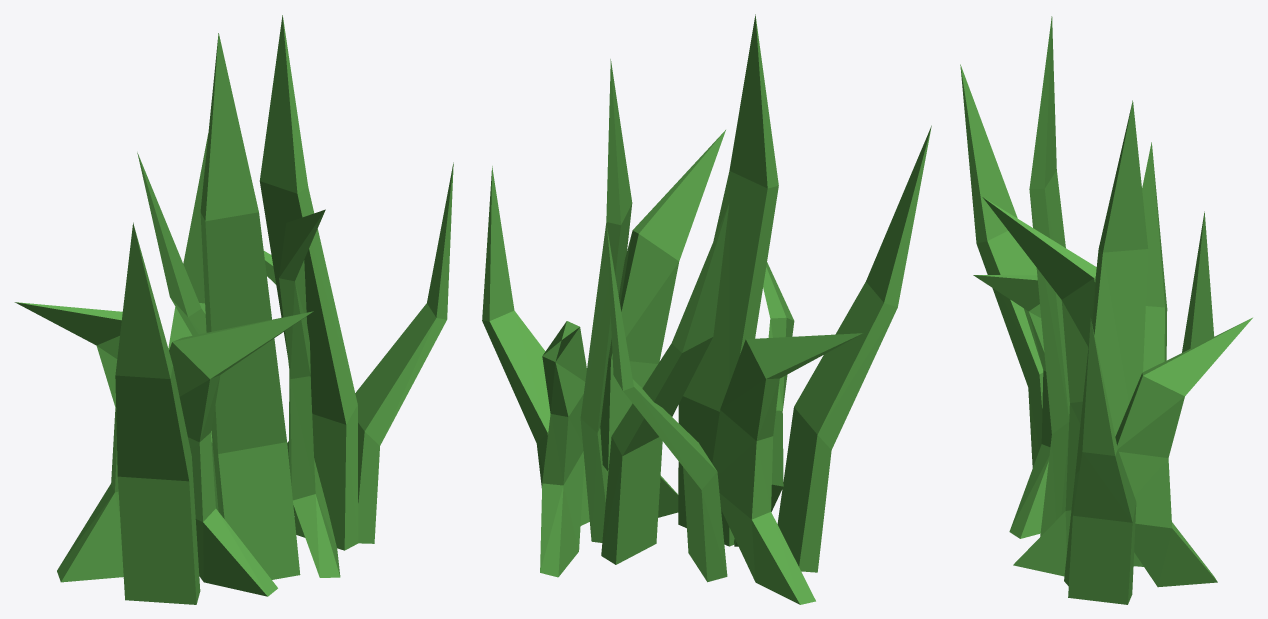
Rendered from grass02.fbx.
The picture shows the model from 3 angles, left to right: view 1: azimuth 30°, elevation 25°; view 2: azimuth 150°, elevation 25°; view 3: azimuth 270°, elevation 25°; orthographic projection. The views are drawn at different scales.
Parts seen in each view (by area): view 1: grass02_LOD0; view 2: grass02_LOD0; view 3: grass02_LOD0.
Boxes of the visible parts, <box> form: grass02_LOD0: <box>14,15,453,604</box>; grass02_LOD0: <box>482,14,931,604</box>; grass02_LOD0: <box>960,16,1252,604</box>.
Size of what is drawn, in the model's own units: 148 by 190 by 98.93.
